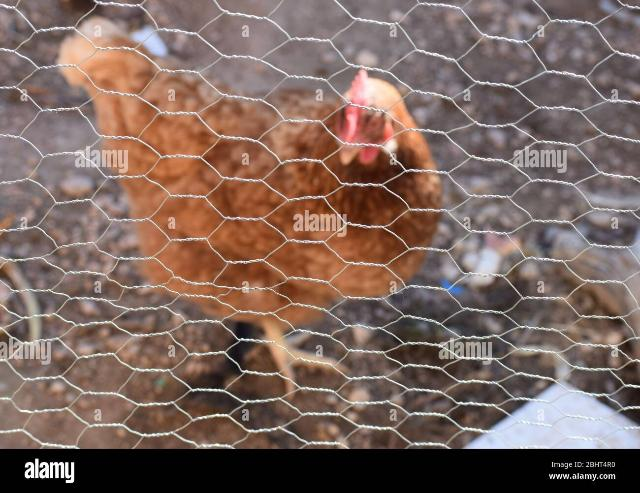Chicken: (61, 18, 440, 404)
